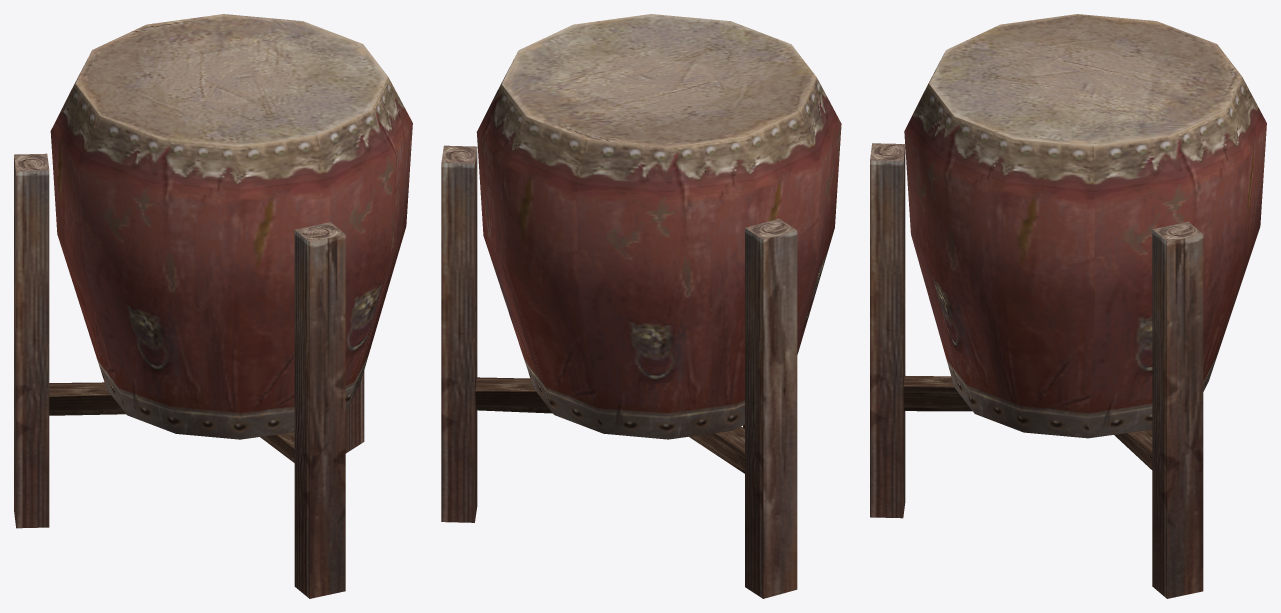
3 views of the same model, side by side, from view 1: azimuth 30°, elevation 25°; view 2: azimuth 150°, elevation 25°; view 3: azimuth 270°, elevation 25° (orthographic).
Parts seen in each view (by area): view 1: gu_yc_41; view 2: gu_yc_41; view 3: gu_yc_41.
Part boxes in pixels (bbox=[...]): gu_yc_41: bbox=[14, 14, 412, 598]; gu_yc_41: bbox=[441, 14, 841, 598]; gu_yc_41: bbox=[870, 14, 1266, 598].
Size of what is drawn, in the model's own units: 214 by 253 by 210.
